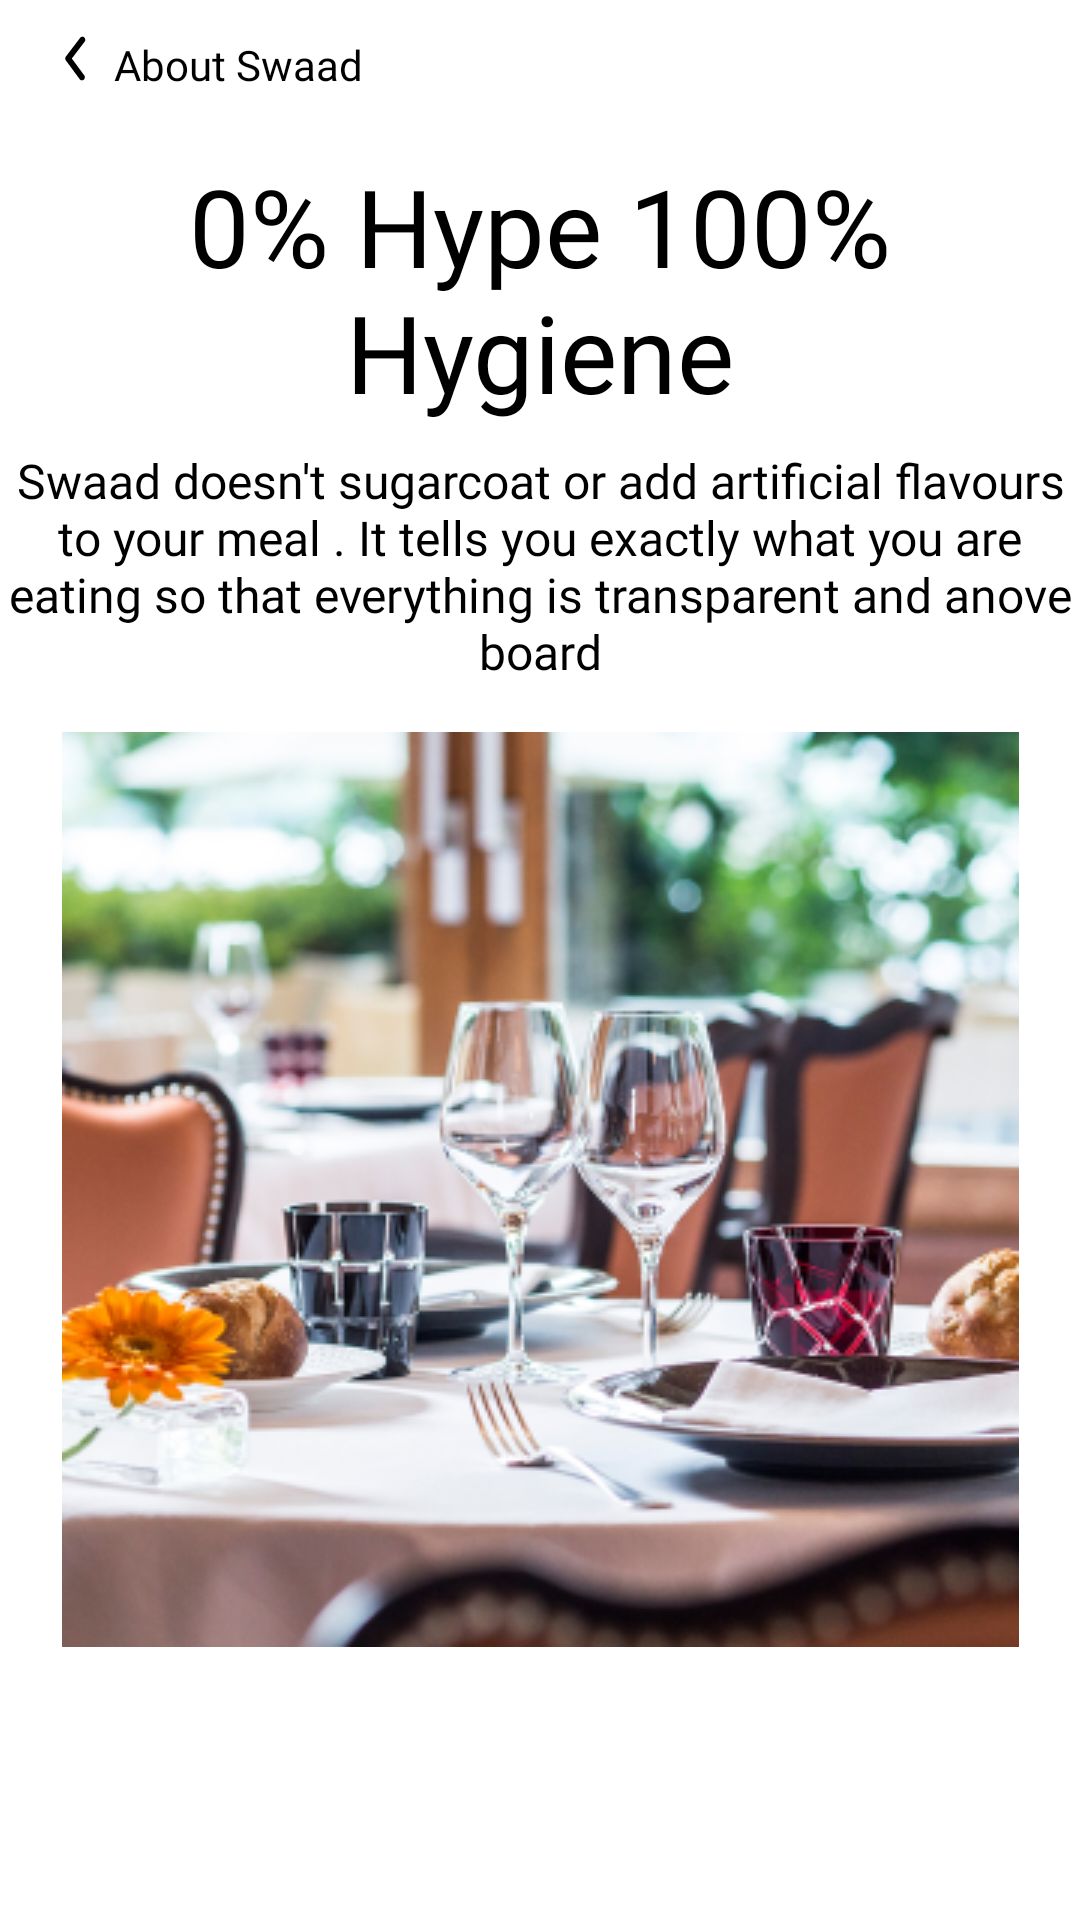

Point at icon controls on the screen. Image size 1080*1920, points as (x=x, y=y).
left arrow: (x=75, y=58)
